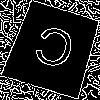C: (27, 24, 79, 79)
